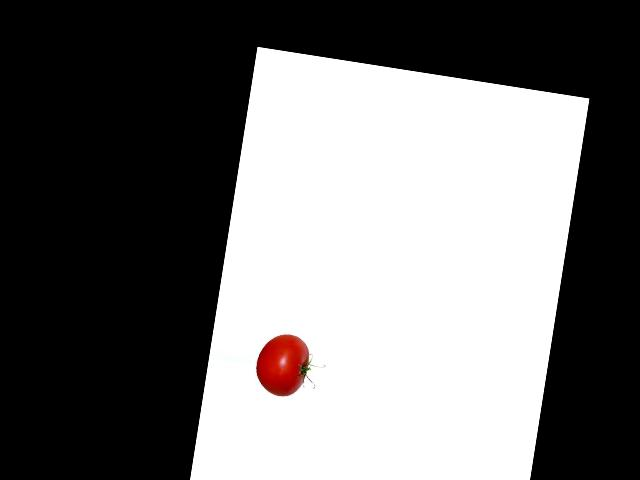tomato: (252, 329, 312, 399)
